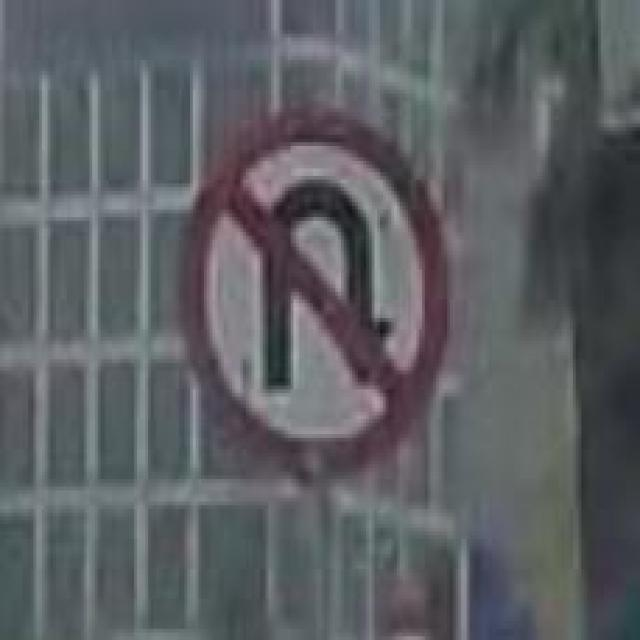traffic sign: (173, 116, 438, 476)
